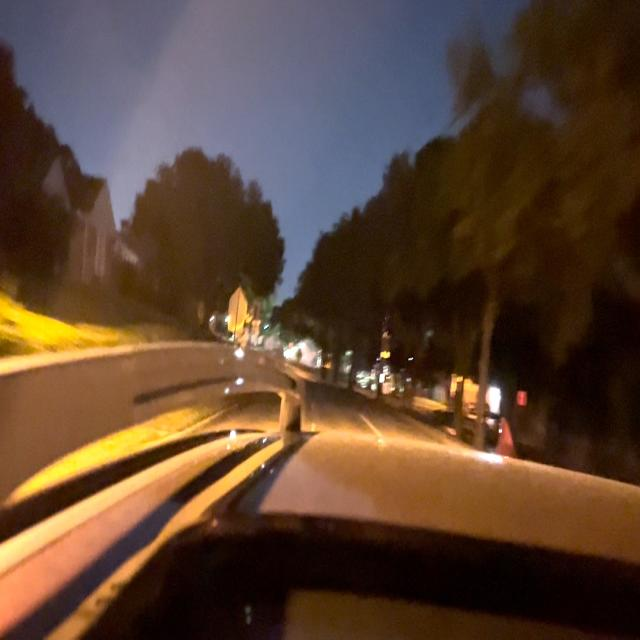back-of-sign: (228, 285, 248, 334)
